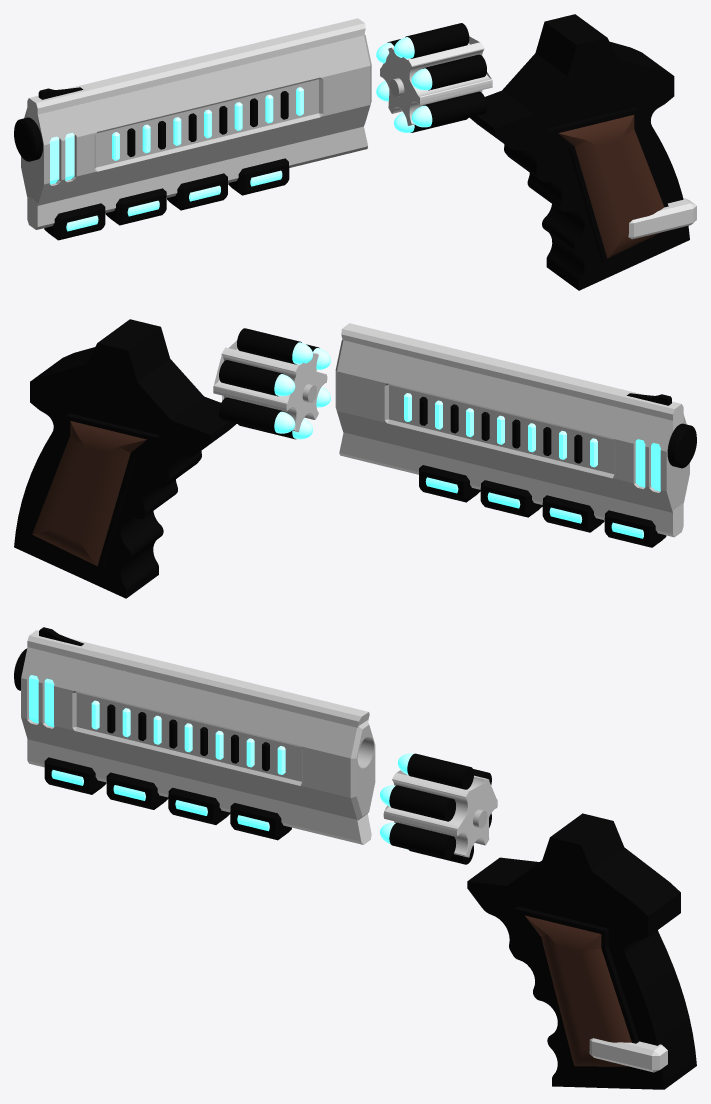
Rendered from Complete Gun.fbx.
The picture shows the model from 3 angles, top to bottom: view 1: azimuth 30°, elevation 25°; view 2: azimuth 150°, elevation 25°; view 3: azimuth 330°, elevation 25°; orthographic projection.
Visible parts, largest first — view 1: Cylinder, Body1, Body1.001, Cube.001, Cube, Cylinder.009, Cube.021, Cylinder.014, Cylinder.011, Cylinder.015, Cube.018, Cube.019 (+4 smaller); view 2: Cylinder, Body1, Body1.001, Cube.001, Cube, Cylinder.009, Cylinder.012, Cylinder.014, Cylinder.013, Cube.017, Cube.018, Cube.016 (+3 smaller); view 3: Body1, Cylinder, Body1.001, Cube.001, Cube, Cylinder.009, Cube.021, Cylinder.015, Cylinder.014, Cylinder.011, Cube.018, Cube.019 (+3 smaller).
Boxes of the visible parts, bbox=[...] form: Cylinder: bbox=[21, 34, 371, 205]; Body1: bbox=[470, 14, 689, 290]; Body1.001: bbox=[558, 115, 664, 258]; Cube.001: bbox=[27, 18, 365, 124]; Cube: bbox=[27, 126, 367, 229]; Cylinder.009: bbox=[380, 36, 492, 125]; Cube.021: bbox=[628, 197, 696, 239]; Cylinder.014: bbox=[405, 23, 469, 58]; Cylinder.011: bbox=[423, 91, 486, 127]; Cylinder.015: bbox=[423, 54, 486, 90]; Cube.018: bbox=[44, 203, 105, 240]; Cube.019: bbox=[228, 158, 289, 195]; Cylinder: bbox=[335, 340, 689, 512]; Body1: bbox=[14, 319, 236, 598]; Body1.001: bbox=[32, 421, 146, 566]; Cube.001: bbox=[341, 323, 683, 431]; Cube: bbox=[339, 432, 683, 537]; Cylinder.009: bbox=[213, 340, 327, 432]; Cylinder.012: bbox=[219, 397, 283, 433]; Cylinder.014: bbox=[237, 328, 301, 364]; Cylinder.013: bbox=[219, 360, 283, 396]; Cube.017: bbox=[542, 495, 604, 532]; Cube.018: bbox=[604, 510, 666, 547]; Cube.016: bbox=[480, 480, 542, 517]; Body1: bbox=[467, 813, 696, 1089]; Cylinder: bbox=[21, 647, 375, 820]; Body1.001: bbox=[525, 915, 631, 1066]; Cube.001: bbox=[27, 630, 369, 727]; Cube: bbox=[27, 739, 371, 844]; Cylinder.009: bbox=[383, 770, 497, 857]; Cube.021: bbox=[589, 1038, 667, 1072]; Cylinder.015: bbox=[389, 785, 455, 821]; Cylinder.014: bbox=[407, 753, 473, 789]; Cylinder.011: bbox=[389, 823, 456, 858]; Cube.018: bbox=[44, 757, 106, 794]; Cube.019: bbox=[230, 803, 291, 840].
Bounding box in the file's own units: 3332 × 1535 × 420.
